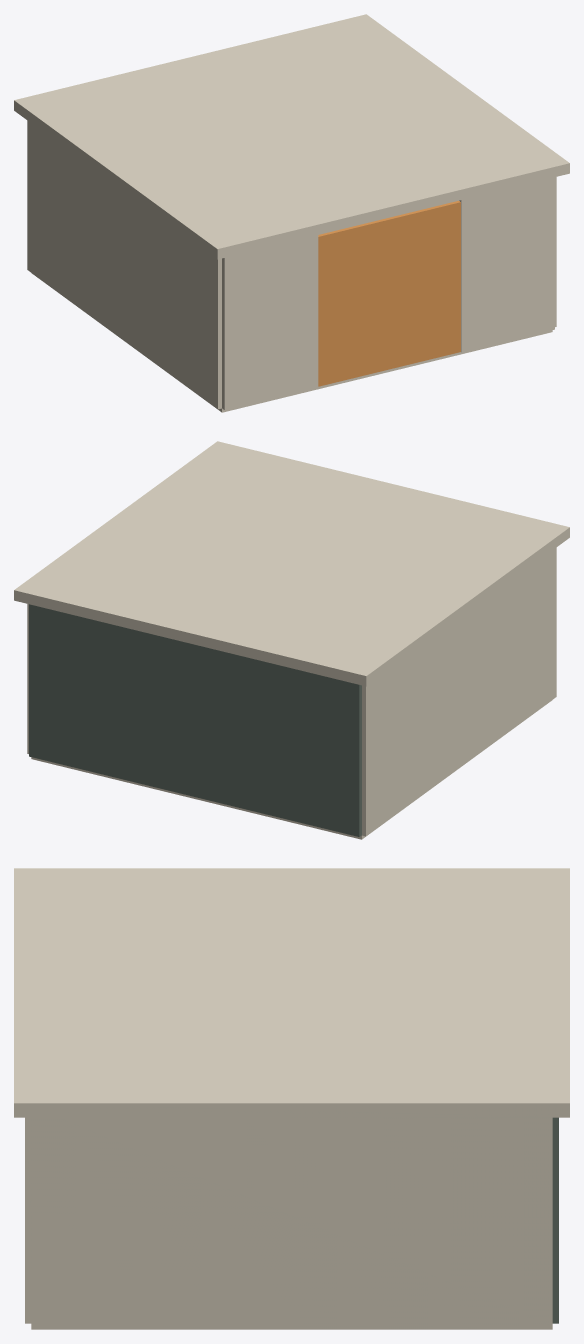
Rendered from pavilion-low.glb.
3 views of the same model, one above another, from view 1: azimuth 30°, elevation 25°; view 2: azimuth 150°, elevation 25°; view 3: azimuth 270°, elevation 25° (orthographic). The views are drawn at different scales.
Visible parts, largest first — view 1: roof, left-wall, door, front-left, front-right, floor; view 2: roof, back-wall, left-wall, floor; view 3: roof, right-wall, floor, back-wall, front-right.
Part boxes in pixels (box(x1,y1,x2,y2)): roof: box(14, 14, 569, 259); left-wall: box(27, 120, 221, 409); door: box(318, 200, 460, 386); front-left: box(222, 235, 318, 409); front-right: box(459, 177, 554, 352); floor: box(31, 273, 552, 412); roof: box(14, 441, 569, 686); back-wall: box(29, 604, 361, 836); left-wall: box(362, 547, 556, 836); floor: box(31, 700, 552, 839); roof: box(14, 868, 569, 1117); right-wall: box(31, 1117, 552, 1326); floor: box(31, 1326, 552, 1329); back-wall: box(552, 1117, 558, 1323); front-right: box(25, 1117, 31, 1323).
Bounding box in the file's own units: 6.4 × 2.96 × 6.4.
